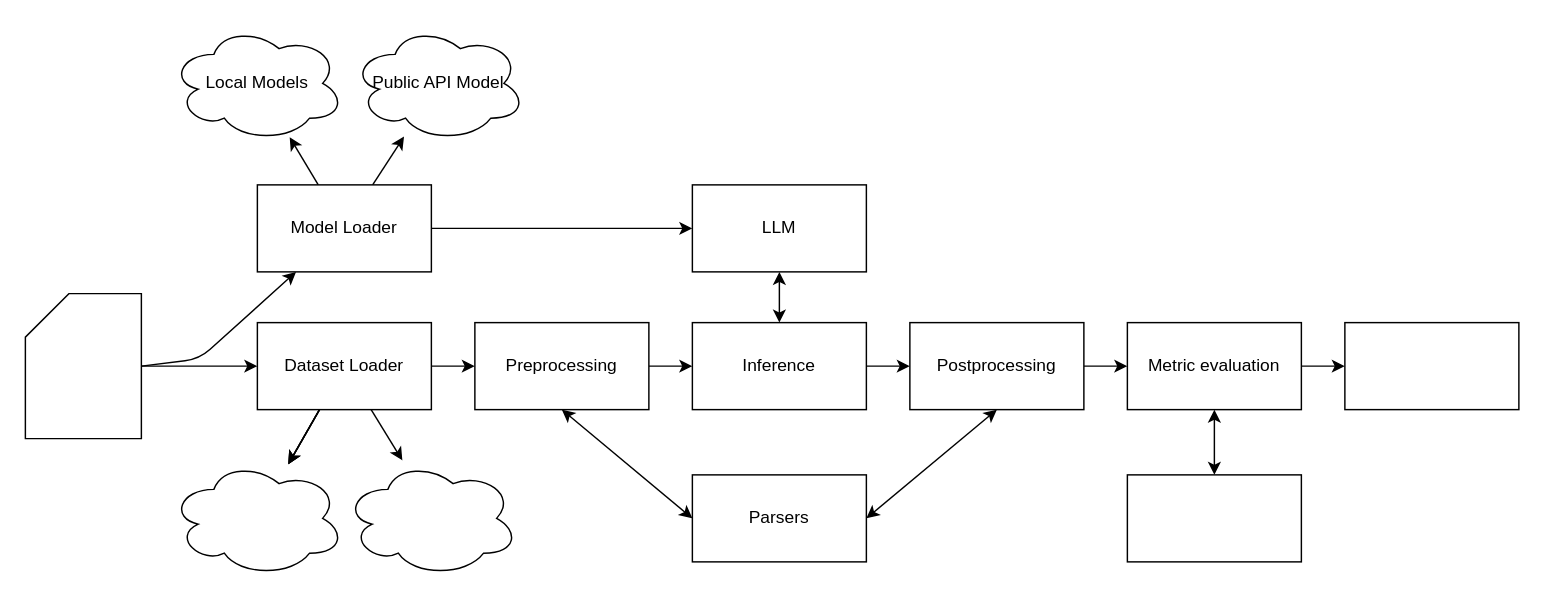
The diagram is 1544 pixels wide and 602 high, and some of its shapes have lost their labels. The centre of each missing label's shape, as x and y in pixels:
"Configuration" belongs at point (82, 365).
"Local datasets" belongs at point (256, 517).
"Metrics" belongs at point (1213, 517).
"Public datasets" belongs at point (430, 517).
"Results" belongs at point (1431, 365).
